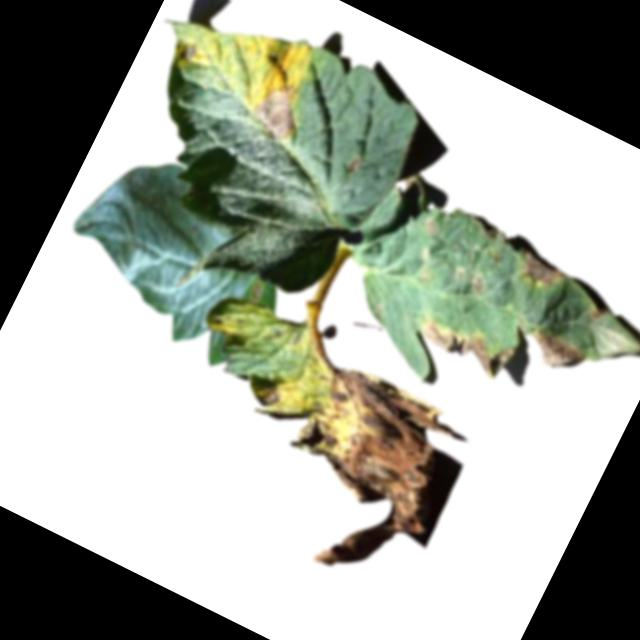Early_blight: (252, 357, 477, 600), (403, 301, 517, 385), (248, 71, 316, 146), (521, 323, 589, 381), (511, 249, 566, 296), (248, 373, 286, 411), (175, 34, 204, 65), (583, 304, 609, 328), (467, 272, 492, 296), (248, 279, 265, 298)
